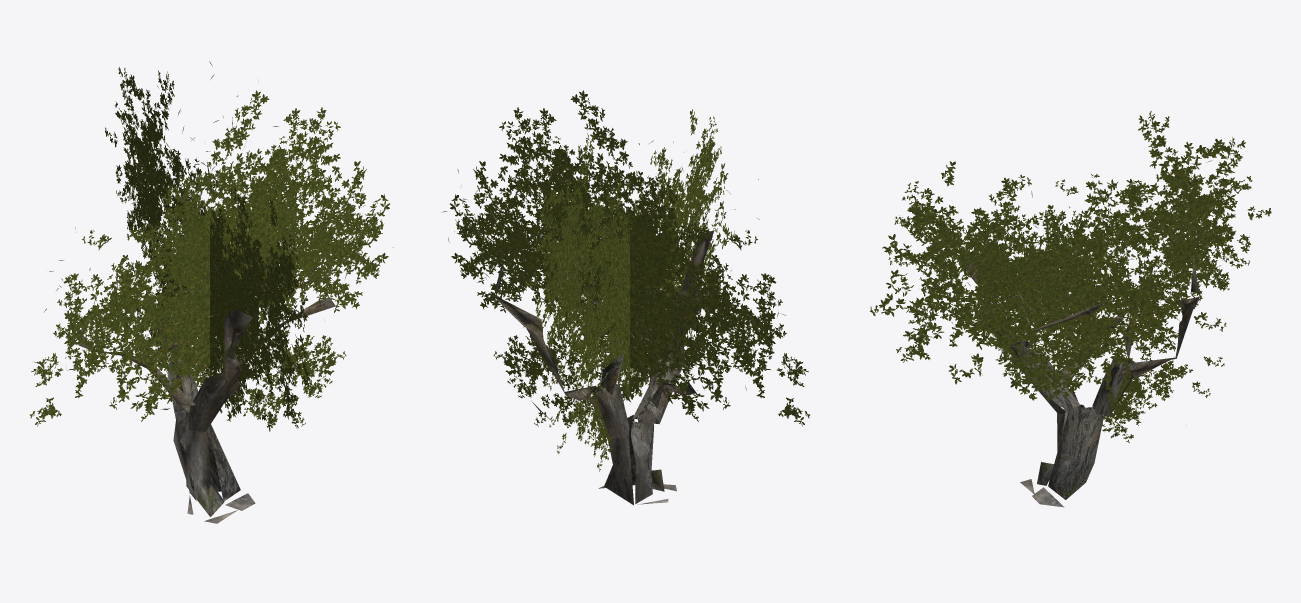
The model's file is scanned-tree-lod.glb.
The picture shows the model from 3 angles, left to right: view 1: azimuth 30°, elevation 25°; view 2: azimuth 150°, elevation 25°; view 3: azimuth 270°, elevation 25°; orthographic projection. The views are drawn at different scales.
Parts seen in each view (by area): view 1: scanned canopy card, scanned canopy card.001, island_tree_01_LOD0.001, island_tree_01_LOD0; view 2: scanned canopy card, scanned canopy card.001, island_tree_01_LOD0.001, island_tree_01_LOD0; view 3: scanned canopy card.001, island_tree_01_LOD0.001, island_tree_01_LOD0.
Boxes of the visible parts, bbox=[...] form: scanned canopy card: bbox=[30, 90, 389, 427]; scanned canopy card.001: bbox=[105, 67, 314, 431]; island_tree_01_LOD0.001: bbox=[78, 162, 335, 523]; island_tree_01_LOD0: bbox=[33, 61, 393, 409]; scanned canopy card: bbox=[450, 90, 809, 427]; scanned canopy card.001: bbox=[525, 109, 734, 471]; island_tree_01_LOD0.001: bbox=[490, 230, 714, 505]; island_tree_01_LOD0: bbox=[442, 140, 785, 390]; scanned canopy card.001: bbox=[870, 111, 1271, 442]; island_tree_01_LOD0.001: bbox=[965, 250, 1199, 507]; island_tree_01_LOD0: bbox=[903, 147, 1232, 425].
Bounding box in the file's own units: 5.15 × 5.15 × 5.15.
4 materials, 4 textured.
